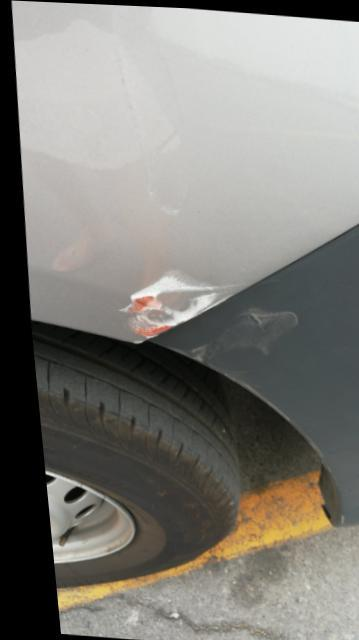scratch: (110, 265, 242, 344), (174, 302, 297, 384)
